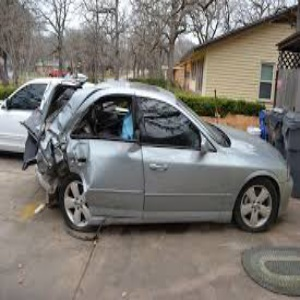door: (68, 143, 148, 223)
